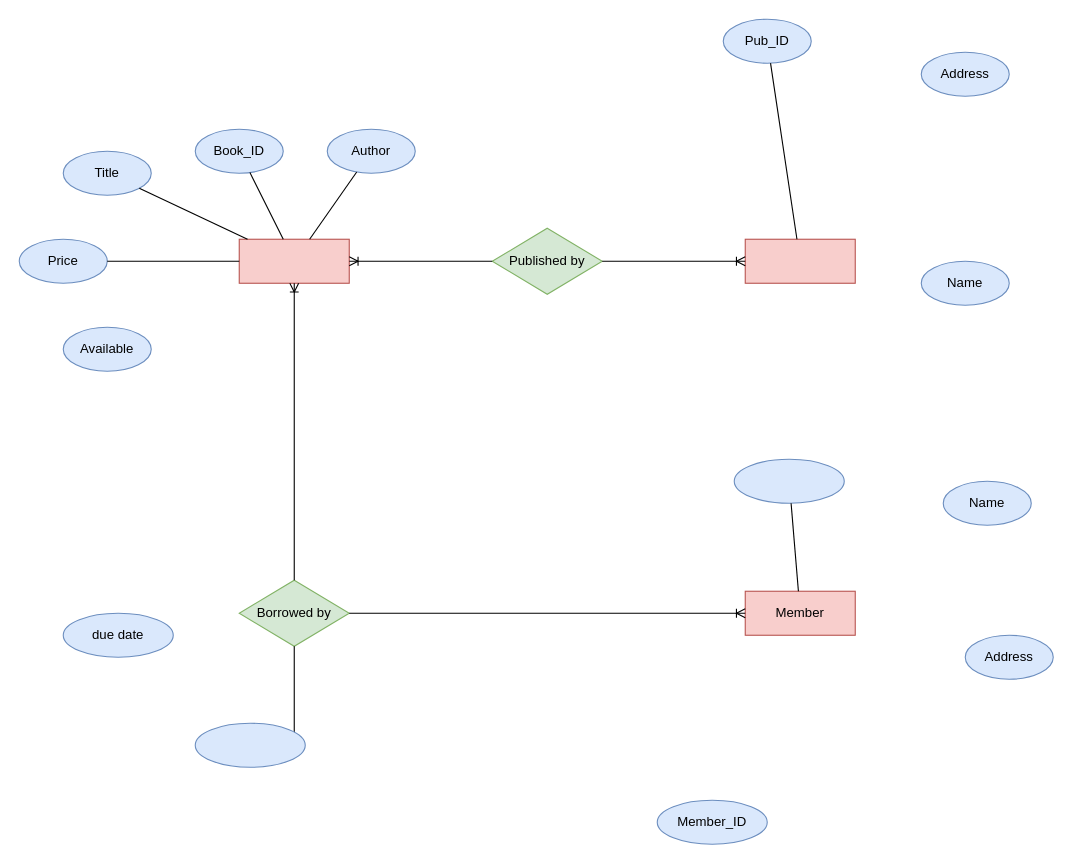
The diagram is 1073 pixels wide and 864 high, and some of its shapes have lost their labels. Each missing label, with the box of its shape:
Books: (238, 238, 349, 283)
Expiry_date: (733, 458, 844, 503)
Publisher: (744, 238, 855, 283)
return date: (194, 722, 305, 767)
